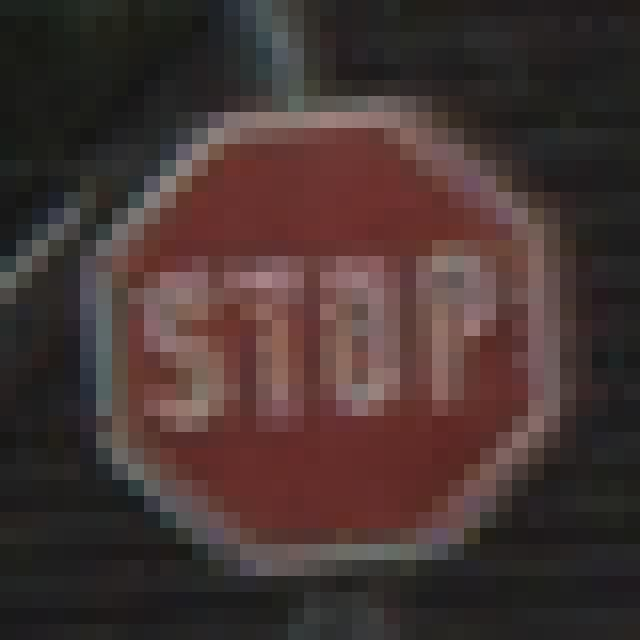STOP: (81, 81, 561, 561)
